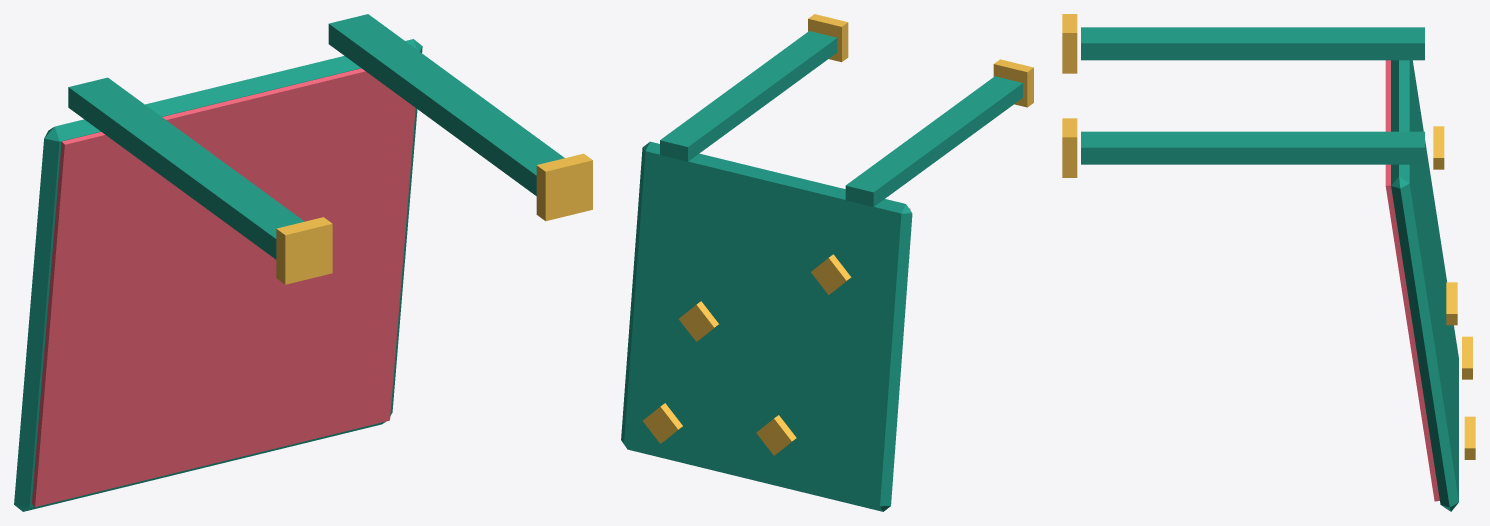
The model's file is CatCafe_Accessory_Cape.glb.
3 views of the same model, side by side, from view 1: azimuth 30°, elevation 25°; view 2: azimuth 150°, elevation 25°; view 3: azimuth 270°, elevation 25° (orthographic). The views are drawn at different scales.
Parts seen in each view (by area): view 1: CatCafe_Accessory_Cape; view 2: CatCafe_Accessory_Cape; view 3: CatCafe_Accessory_Cape.
Part boxes in pixels (<box>): CatCafe_Accessory_Cape: <box>14,14,592,511</box>; CatCafe_Accessory_Cape: <box>621,14,1033,511</box>; CatCafe_Accessory_Cape: <box>1062,14,1475,511</box>.
Size of the model in its own units: 0.96 by 1.08 by 1.11.
Materials: 1 (1 with a texture image).
